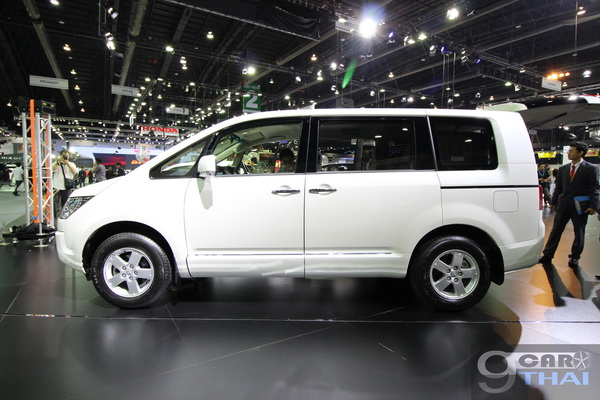van: (53, 104, 547, 312)
